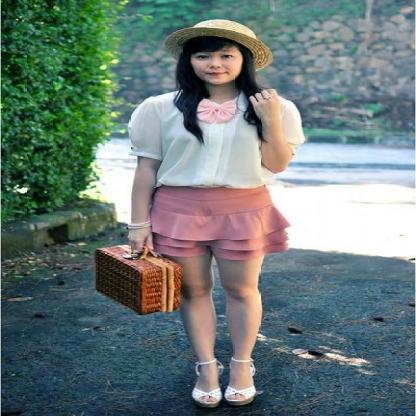bag: (95, 239, 190, 315)
hat: (162, 20, 272, 58)
shirt: (117, 91, 304, 188)
shoe: (192, 374, 262, 404)
skirt: (137, 175, 291, 257)
